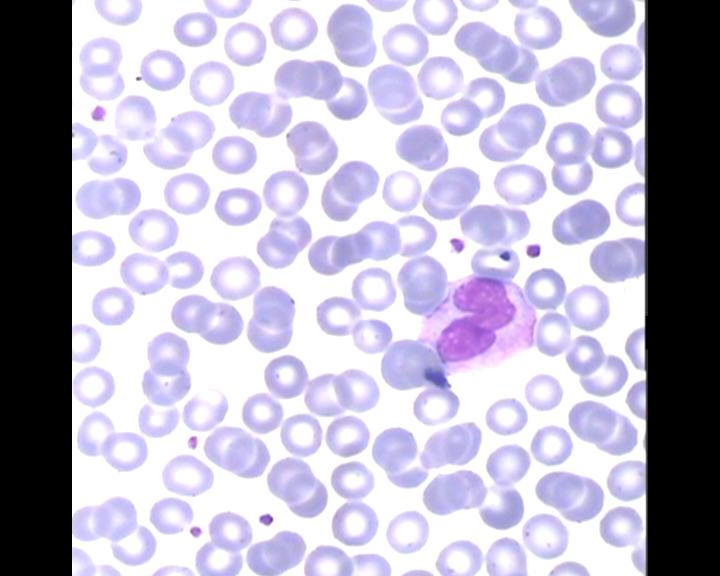mono: (420, 267, 542, 372)
